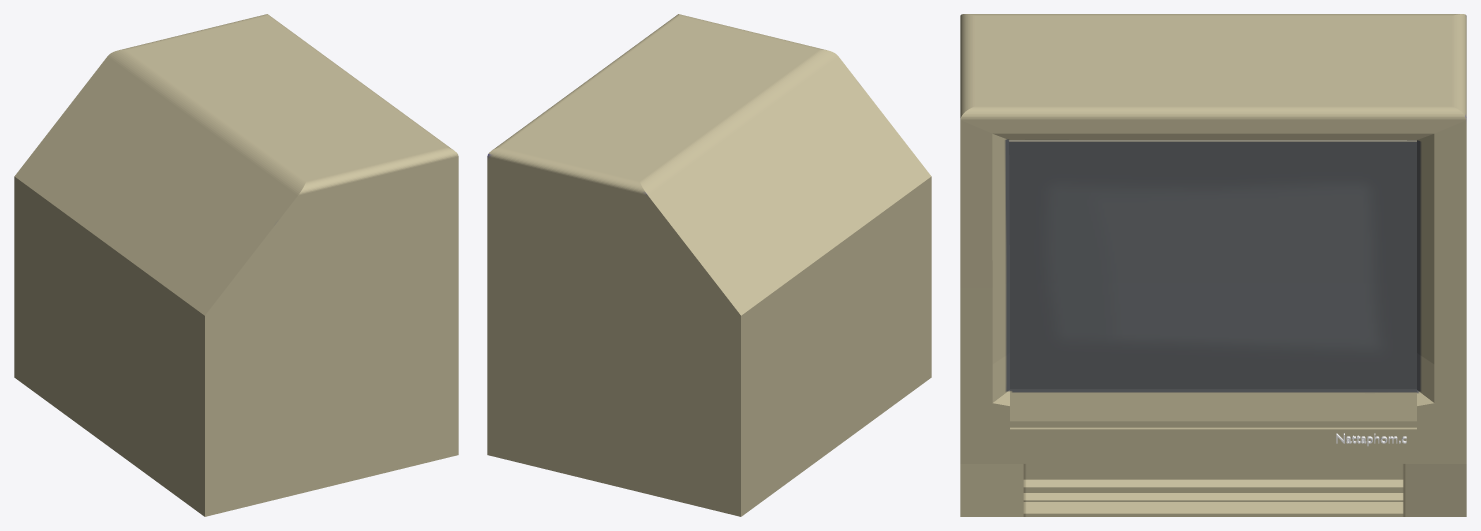
File: Screen.glb
3 renders of one model, left to right at view 1: azimuth 30°, elevation 25°; view 2: azimuth 150°, elevation 25°; view 3: azimuth 270°, elevation 25°, orthographic. The views are drawn at different scales.
Visible parts, largest first — view 1: Cube; view 2: Cube; view 3: Cube.
Part boxes in pixels (x1=…): Cube: x1=14, y1=14, x2=458, y2=516; Cube: x1=487, y1=14, x2=931, y2=516; Cube: x1=960, y1=14, x2=1466, y2=516.
Size of the model in its own units: 2.02 by 2.3 by 2.6.
Materials: 2 (1 with a texture image).
